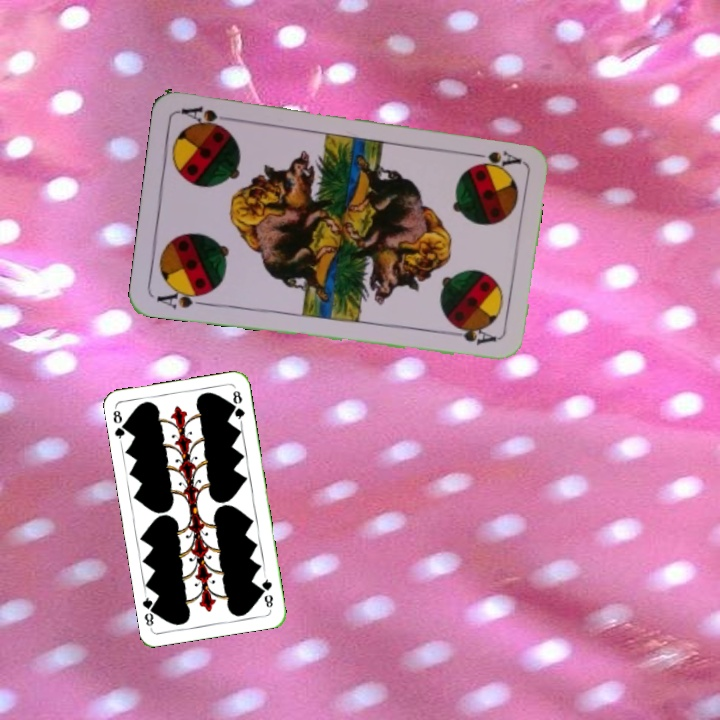G8: (109, 405, 131, 445), (258, 572, 276, 610)
SA: (153, 284, 212, 312), (463, 147, 522, 167)
